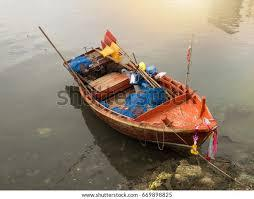fishing boat: (61, 27, 220, 151)
